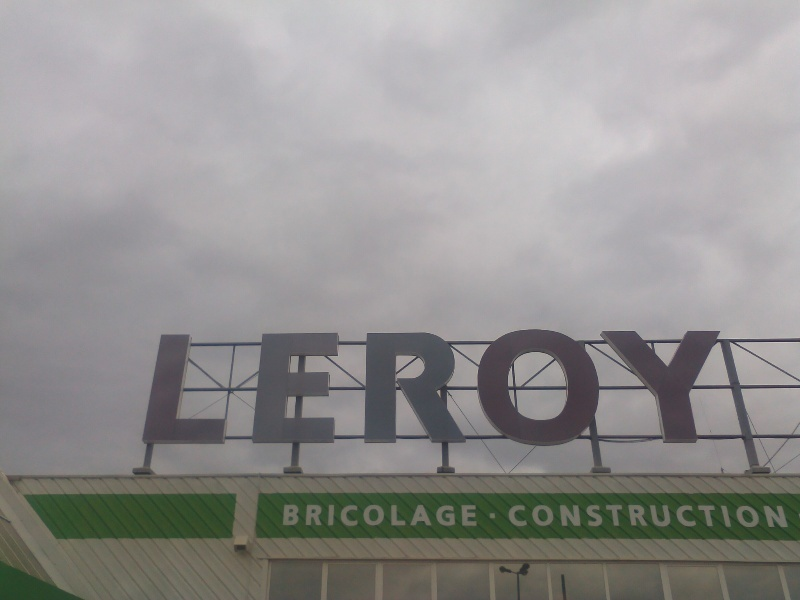text: (161, 328, 176, 448), (177, 328, 192, 448), (193, 328, 208, 448), (209, 328, 224, 448), (225, 328, 240, 448), (241, 328, 256, 448), (257, 328, 272, 448), (273, 328, 288, 448), (289, 328, 304, 448), (305, 328, 320, 448), (321, 328, 336, 448), (337, 328, 352, 448), (353, 328, 368, 448), (369, 328, 384, 448), (385, 328, 400, 448), (401, 328, 416, 448), (417, 328, 432, 448), (433, 328, 448, 448), (449, 328, 464, 448), (465, 328, 480, 448), (481, 328, 496, 448), (497, 328, 512, 448), (513, 328, 528, 448), (529, 328, 544, 448), (545, 328, 560, 448), (561, 328, 576, 448), (577, 328, 592, 448), (593, 328, 608, 448), (609, 328, 624, 448), (625, 328, 640, 448), (641, 328, 656, 448), (657, 328, 672, 448), (673, 328, 688, 448), (689, 328, 704, 448), (705, 328, 720, 448), (289, 503, 304, 527), (305, 503, 320, 527), (321, 503, 336, 527), (337, 503, 352, 527), (353, 503, 368, 527), (369, 503, 384, 527), (385, 503, 400, 527), (401, 503, 416, 527), (417, 503, 432, 527), (433, 503, 448, 527), (449, 503, 464, 527), (513, 504, 528, 528), (529, 504, 544, 528), (545, 504, 560, 528), (561, 504, 576, 528), (577, 504, 592, 528), (593, 504, 608, 528), (609, 504, 624, 528), (625, 504, 640, 528), (641, 504, 656, 528), (657, 504, 672, 528), (673, 504, 688, 528), (689, 504, 704, 528), (705, 504, 720, 528), (721, 504, 736, 528), (737, 504, 752, 528), (753, 504, 768, 528), (769, 504, 784, 528), (465, 503, 478, 527), (721, 328, 723, 448), (159, 328, 160, 448), (785, 504, 790, 528), (284, 503, 288, 527), (509, 504, 512, 528), (490, 513, 496, 520)
